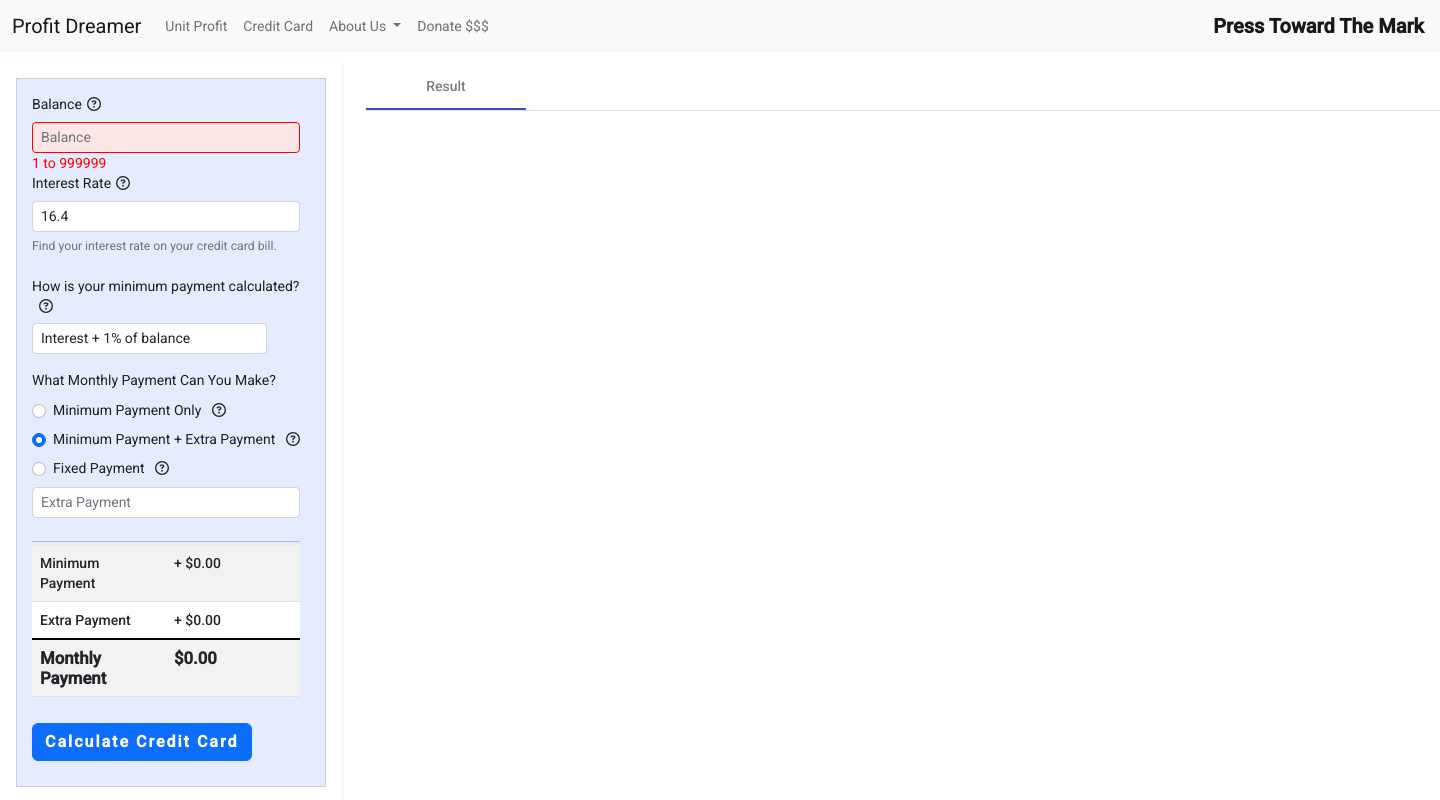
Test: credit-card-validation.cy.ts › credit card balance › enter 1 error should not be visible
Type "1" into the field with id "balance" at x=166, y=138, box top-left (32, 122), bottom-right (300, 153)
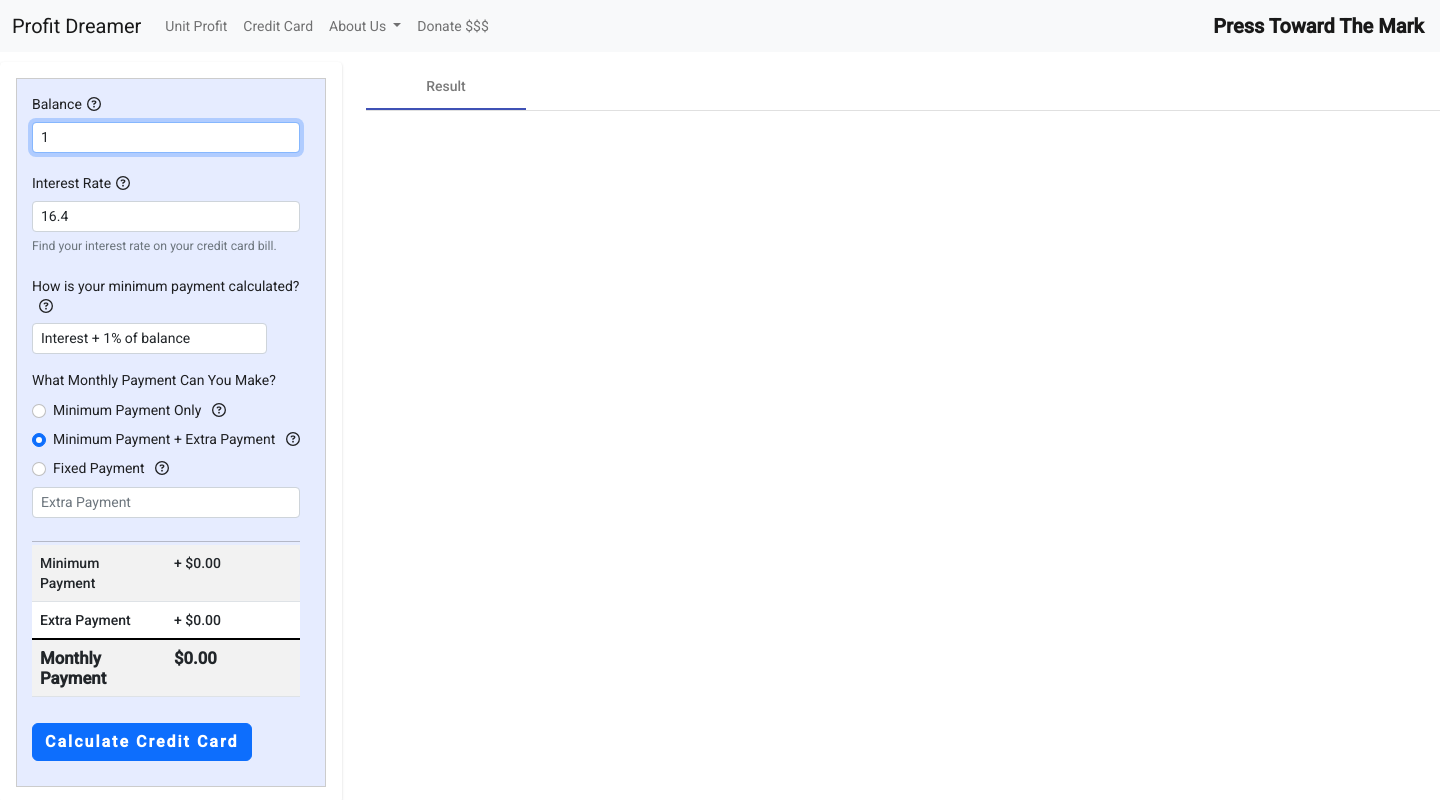
Now the text with id "balance-error-message" is gone
